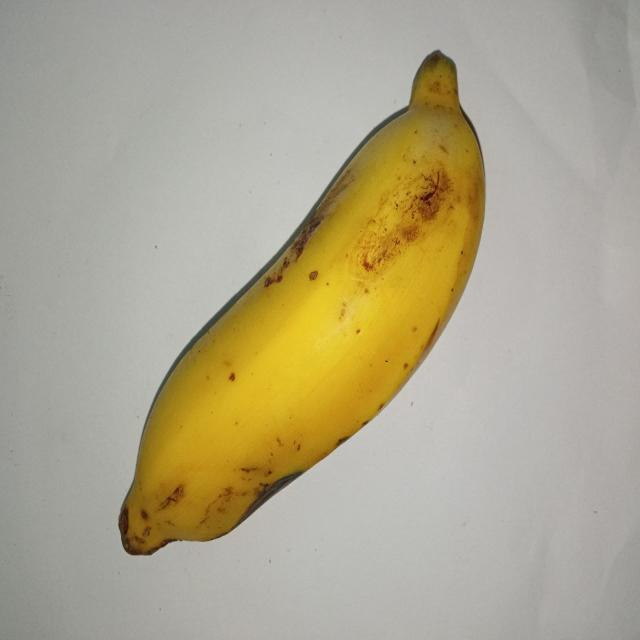fresh_banana: (120, 45, 478, 553)
